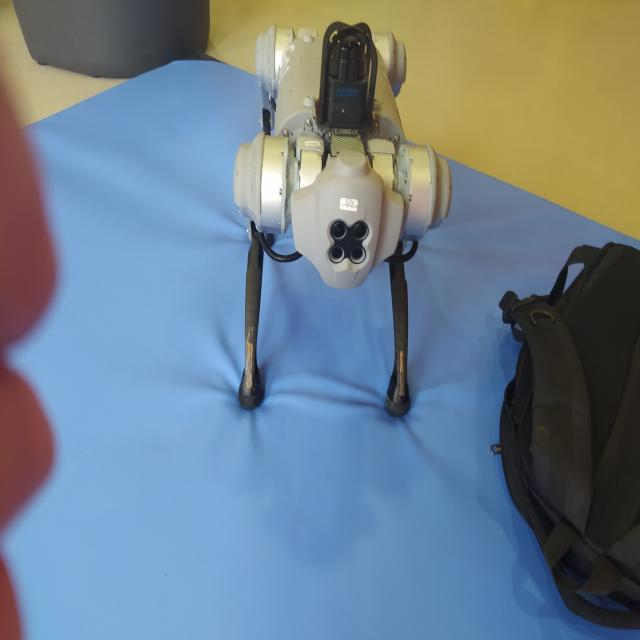unitree-go1-robot: (233, 10, 460, 442)
